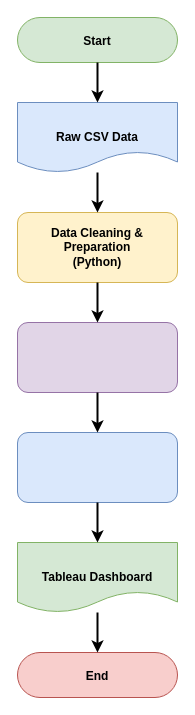
This 195x715 diagram has some shape labels left out. Here are the shapes that lost their labels. From the top down, the box of each, then its label:
(16, 322, 178, 392): Build Visualizations (Tableau Worksheets)
(16, 432, 178, 502): Combine into Dashboard + Add Filters
